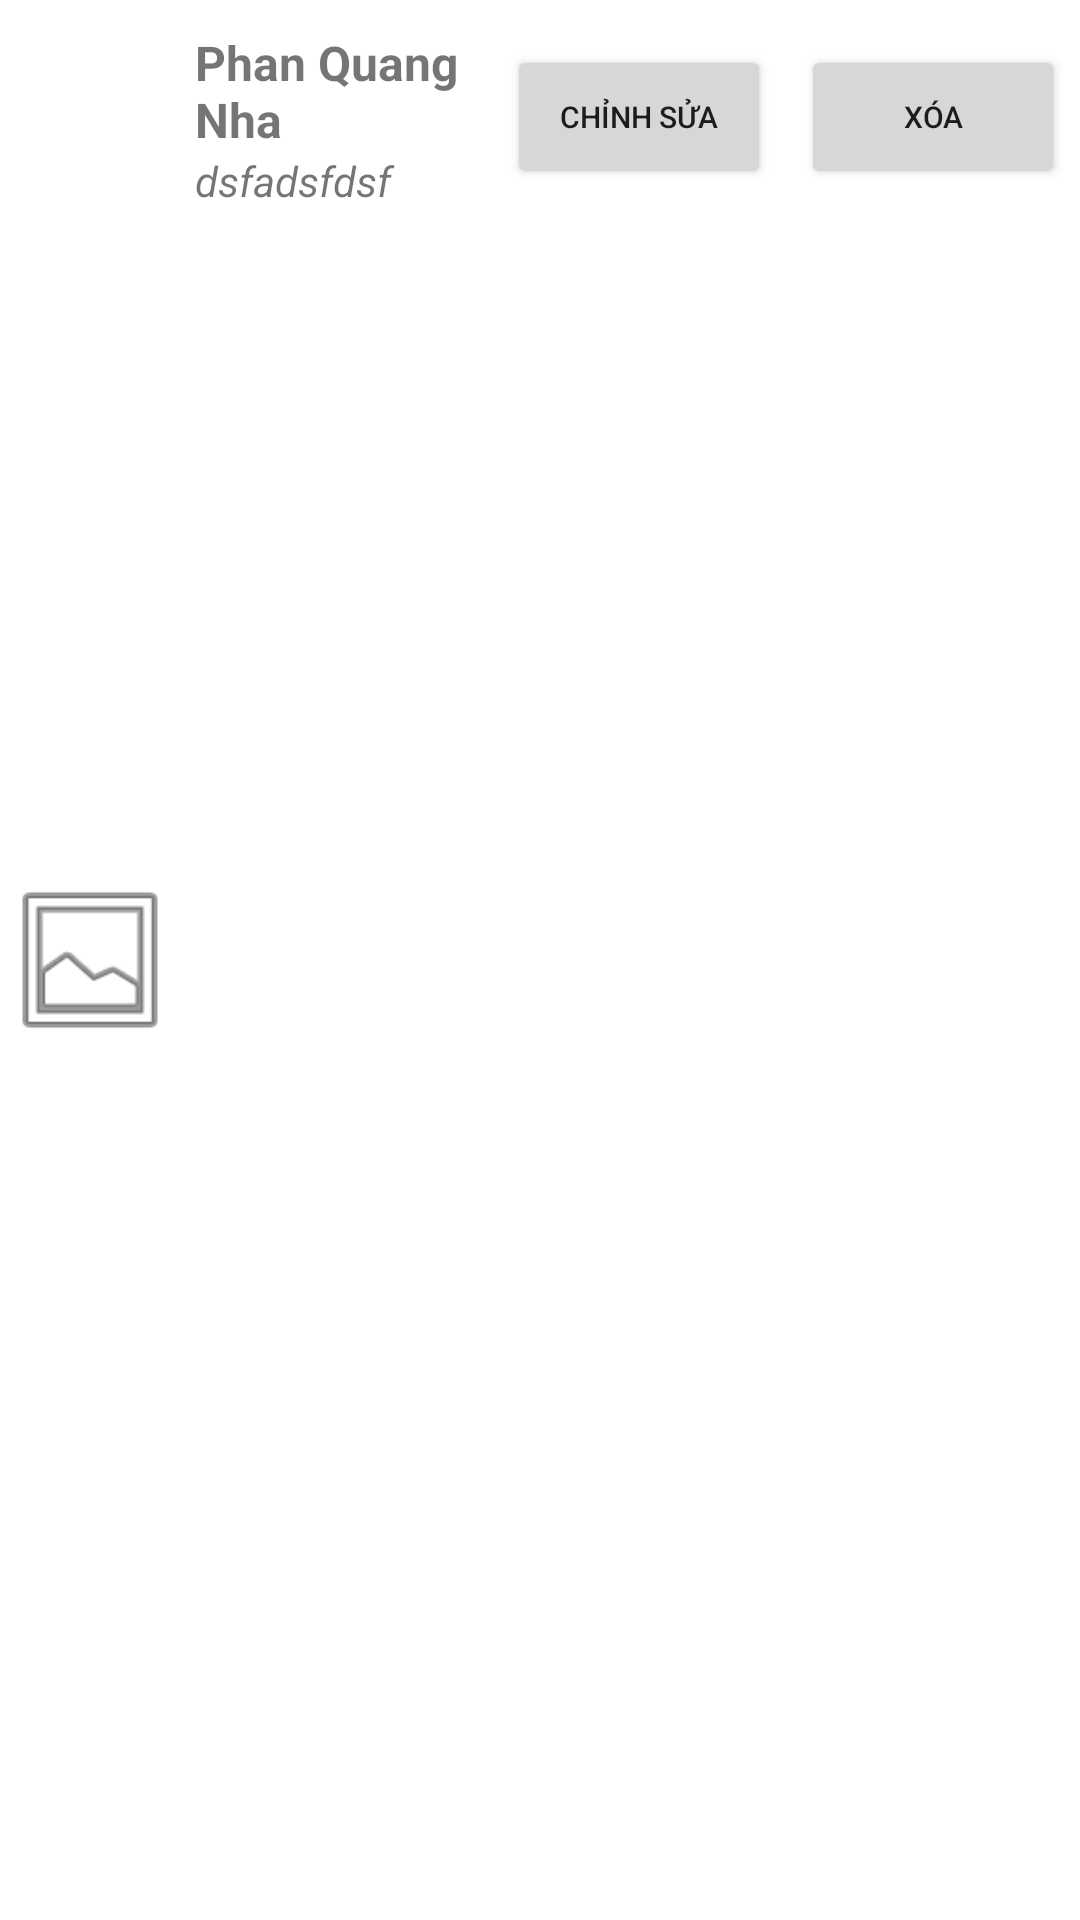

Where to tap for icons on this 1080×1920 app screen, as (x=x, y=y):
gallery: (x=90, y=960)
